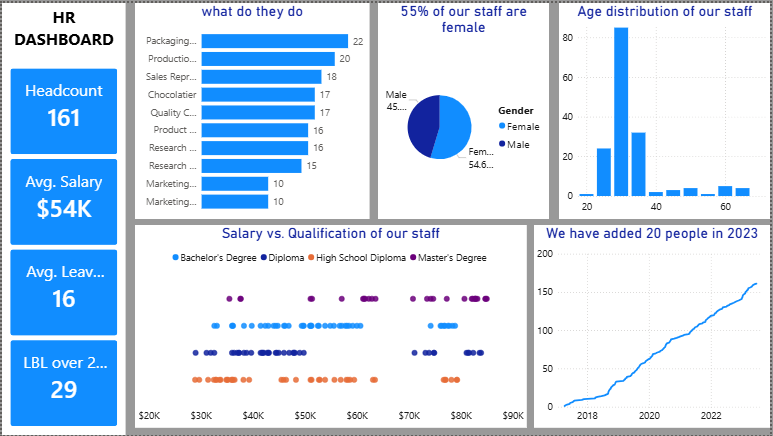

Layout of this report page (visuals, bound fields, positions):
{"tool":"powerbi","page":{"name":"Page 10","canvas":[1280,720],"ordinal":9},"visuals":[{"type":"cardVisual","fields":{"Data":["data.Headcount","data.Avg. Salary","data.Avg. Leave Balance","data.LBL over 20 days"]},"box":[0,95.1,206.3,624.9],"z":0},{"type":"clusteredBarChart","title":"what do they do ","fields":{"Category":["data.Job Title"],"Y":["data.Headcount"]},"box":[222.4,0,390.7,360],"z":1000},{"type":"pieChart","title":"55% of our staff are female","fields":{"Category":["data.Gender"],"Y":["data.Headcount"]},"box":[626.3,0,285.4,360],"z":2000},{"type":"columnChart","title":"Age distribution of our staff","fields":{"Category":["data.Age (bins)"],"Y":["data.Headcount"]},"box":[927.8,0,352.7,360],"z":3000},{"type":"scatterChart","title":"Salary vs. Qualification of our staff","fields":{"X":["data.Salary"],"Y":["Qual.Qualification ID"],"Series":["Qual.Qualification"]},"box":[222.4,370.2,652.7,338],"z":4000},{"type":"lineChart","title":"We have added 20 people in 2023","fields":{"Y":["data.Cumulative Headcount"],"Category":["data.Date of Join"]},"box":[886.8,370.2,393.7,338],"z":5000},{"type":"textbox","box":[0,0,206.3,95.1],"z":6000}]}

Visuals, with their boxes in screenshot pixels (x1, y1, x2, y2), scaled from the page's 1280x720 canvas onto the 773x436 screenshot:
cardVisual - data.Headcount x data.Avg. Salary: region(0, 58, 125, 435)
"what do they do " clusteredBarChart: region(134, 0, 370, 218)
"55% of our staff are female" pieChart: region(378, 0, 551, 218)
"Age distribution of our staff" columnChart: region(560, 0, 772, 218)
"Salary vs. Qualification of our staff" scatterChart: region(134, 224, 528, 429)
"We have added 20 people in 2023" lineChart: region(536, 224, 772, 429)
textbox: region(0, 0, 125, 58)
